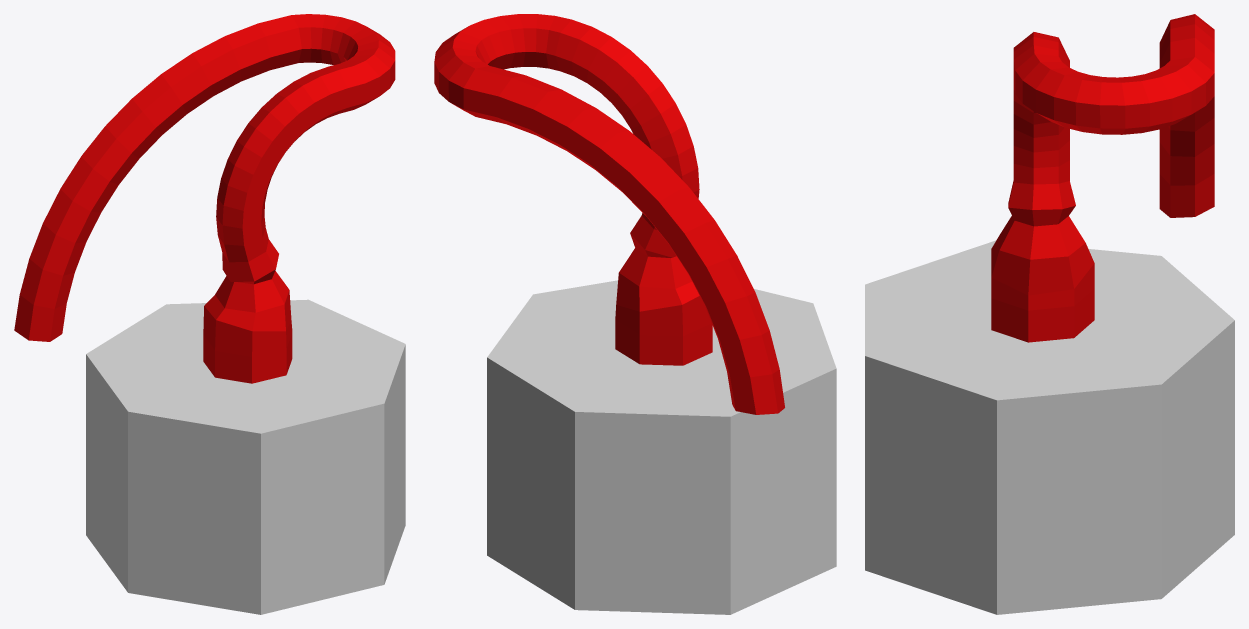
Rendered from RotondaTubo.fbx.
3 views of the same model, side by side, from view 1: azimuth 30°, elevation 25°; view 2: azimuth 150°, elevation 25°; view 3: azimuth 270°, elevation 25° (orthographic). The views are drawn at different scales.
Parts seen in each view (by area): view 1: Cylinder, Cylinder.001; view 2: Cylinder, Cylinder.001; view 3: Cylinder, Cylinder.001.
Boxes of the visible parts, bbox=[...] form: Cylinder: bbox=[86, 299, 405, 614]; Cylinder.001: bbox=[14, 14, 395, 383]; Cylinder: bbox=[487, 280, 836, 614]; Cylinder.001: bbox=[434, 14, 784, 414]; Cylinder: bbox=[865, 240, 1234, 614]; Cylinder.001: bbox=[991, 14, 1214, 342].
Bounding box in the file's own units: 37.75 × 48.94 × 30.37.
